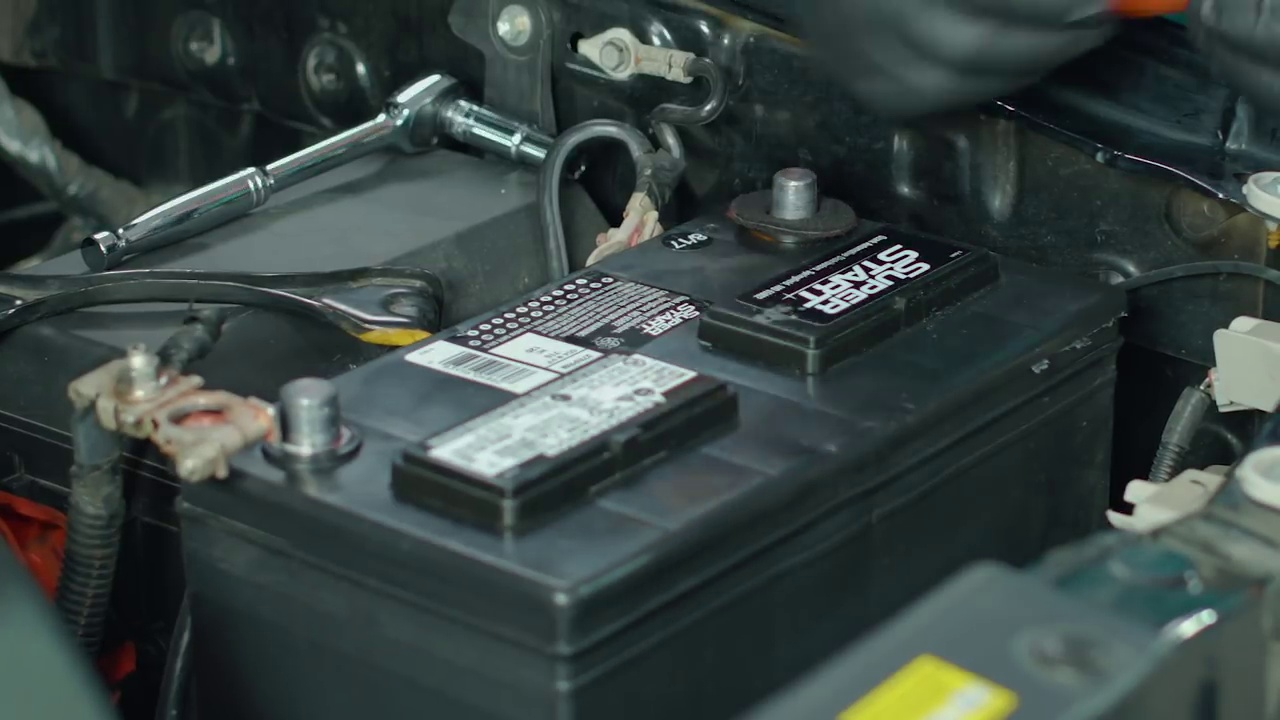battery: (151, 160, 1135, 600)
neg_disconnected: (692, 132, 877, 256)
pos_disconnected: (1, 318, 363, 587)
